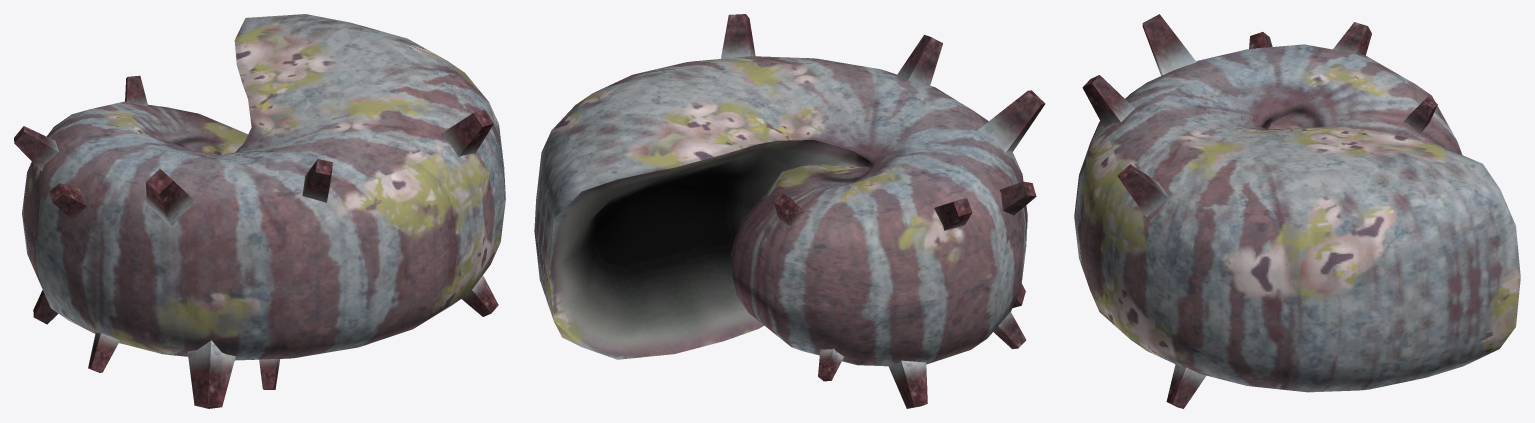
The picture shows the model from 3 angles, left to right: view 1: azimuth 30°, elevation 25°; view 2: azimuth 150°, elevation 25°; view 3: azimuth 270°, elevation 25°; orthographic projection.
Parts seen in each view (by area): view 1: pCube16_1__Shell00; view 2: pCube16_1__Shell00; view 3: pCube16_1__Shell00.
Boxes of the visible parts, x1,y1,x2,y2 form: pCube16_1__Shell00: (14, 14, 505, 408); pCube16_1__Shell00: (534, 14, 1045, 408); pCube16_1__Shell00: (1074, 14, 1520, 408).
Bounding box in the file's own units: 1.14 × 0.577 × 0.9855.
Materials: 1 (1 with a texture image).
